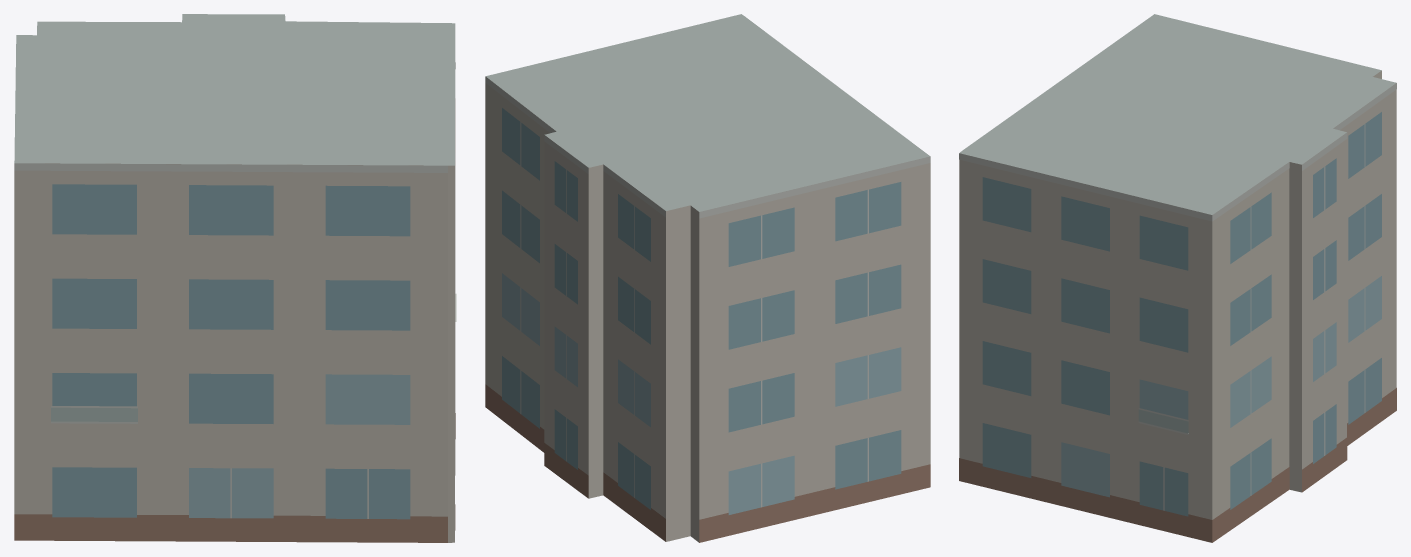
Rendered from survey-upis-32781700.glb.
The picture shows the model from 3 angles, left to right: view 1: azimuth 30°, elevation 25°; view 2: azimuth 150°, elevation 25°; view 3: azimuth 270°, elevation 25°; orthographic projection. The views are drawn at different scales.
Parts seen in each view (by area): view 1: survey-upis-32781700.tmp; view 2: survey-upis-32781700.tmp; view 3: survey-upis-32781700.tmp.
Part boxes in pixels (x1=…): survey-upis-32781700.tmp: x1=14, y1=14, x2=456, y2=542; survey-upis-32781700.tmp: x1=485, y1=14, x2=930, y2=542; survey-upis-32781700.tmp: x1=959, y1=14, x2=1396, y2=542.
Size of the model in its own units: 16.32 by 12.4 by 15.01.
